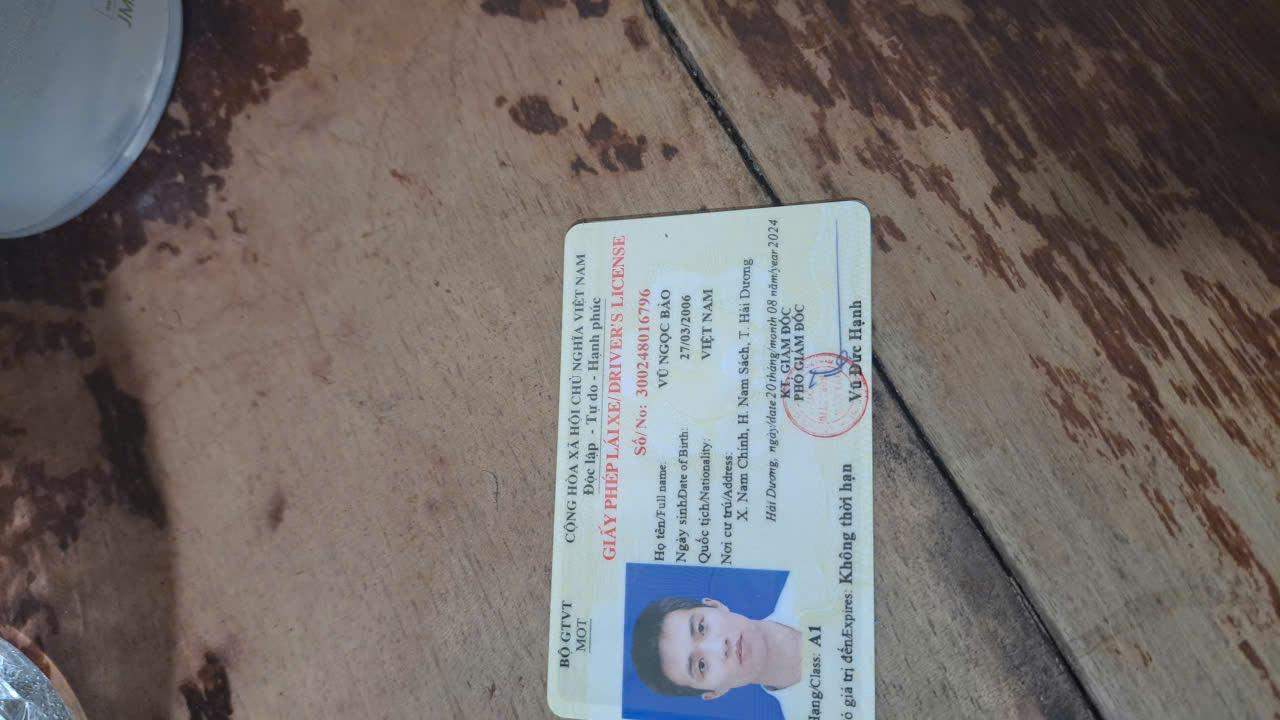gplx: (537, 195, 881, 720)
